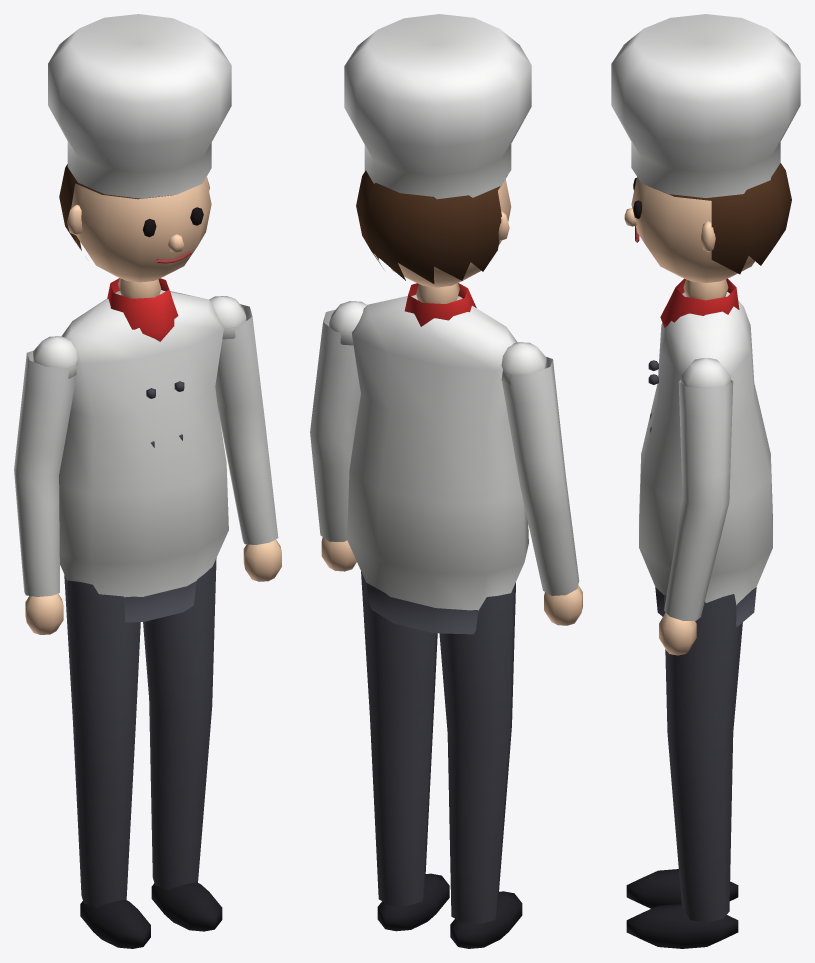
The model's file is Staff_Chef.obj.
The picture shows the model from 3 angles, left to right: view 1: azimuth 30°, elevation 25°; view 2: azimuth 150°, elevation 25°; view 3: azimuth 270°, elevation 25°; orthographic projection.
Visible parts, largest first — view 1: Torso, Head, LegR, LegL, ArmR, ArmL; view 2: Torso, Head, LegR, LegL, ArmR, ArmL; view 3: Head, Torso, LegL, ArmL, LegR.
Boxes of the visible parts, box(x1,y1,x2,y2) form: Torso: box(59, 278, 228, 622); Head: box(48, 14, 231, 282); LegR: box(64, 575, 150, 948); LegL: box(143, 558, 222, 931); ArmR: box(14, 336, 77, 634); ArmL: box(209, 296, 281, 581); Torso: box(347, 283, 528, 634); Head: box(344, 14, 531, 287); LegR: box(439, 582, 522, 948); LegL: box(361, 571, 449, 931); ArmR: box(501, 342, 582, 625); ArmL: box(310, 301, 366, 571); Head: box(611, 14, 800, 282); Torso: box(639, 278, 772, 626); LegL: box(626, 594, 742, 948); ArmL: box(659, 358, 733, 655); LegR: box(626, 869, 738, 908).
Bounding box in the file's own units: 0.6274 × 2.08 × 0.4026.
Materials: 1 (1 with a texture image).
